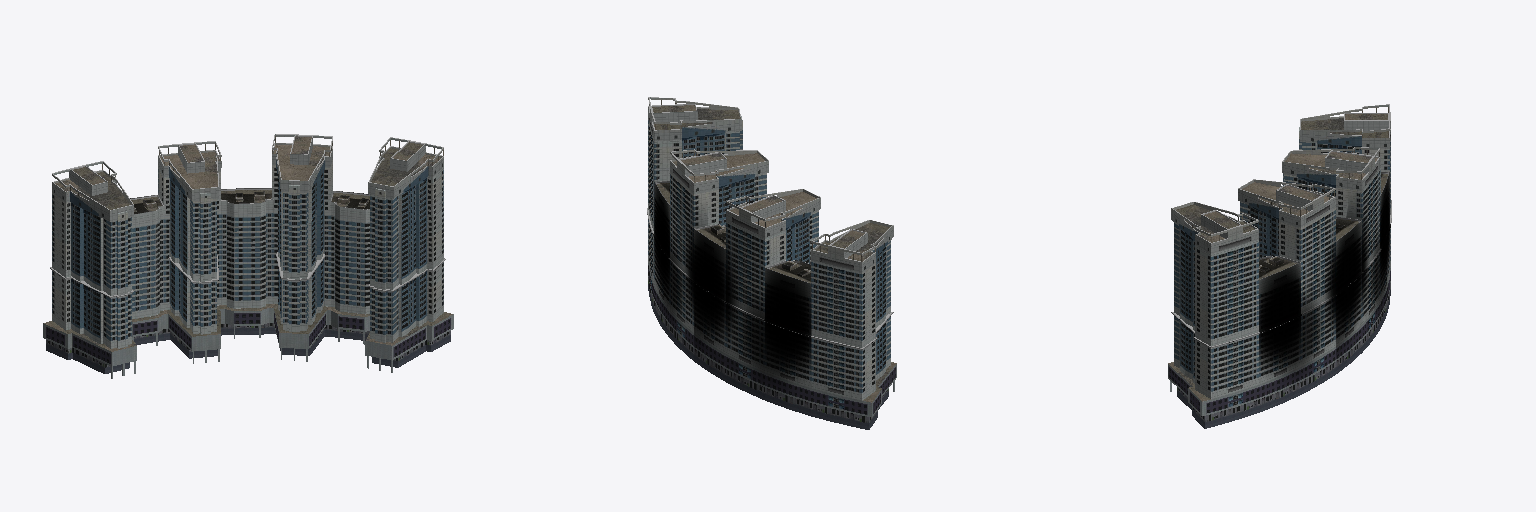
3 views of the same model, side by side, from view 1: azimuth 30°, elevation 25°; view 2: azimuth 150°, elevation 25°; view 3: azimuth 270°, elevation 25° (orthographic).
Visible parts, largest first — view 1: LOD0__ncl1_3; view 2: LOD0__ncl1_3; view 3: LOD0__ncl1_3.
Boxes of the visible parts, x1=… form: LOD0__ncl1_3: x1=43, y1=134, x2=453, y2=378; LOD0__ncl1_3: x1=647, y1=97, x2=896, y2=429; LOD0__ncl1_3: x1=1168, y1=104, x2=1391, y2=428.
Bounding box in the file's own units: 2.01 × 1.17 × 1.23.
Materials: 1 (1 with a texture image).